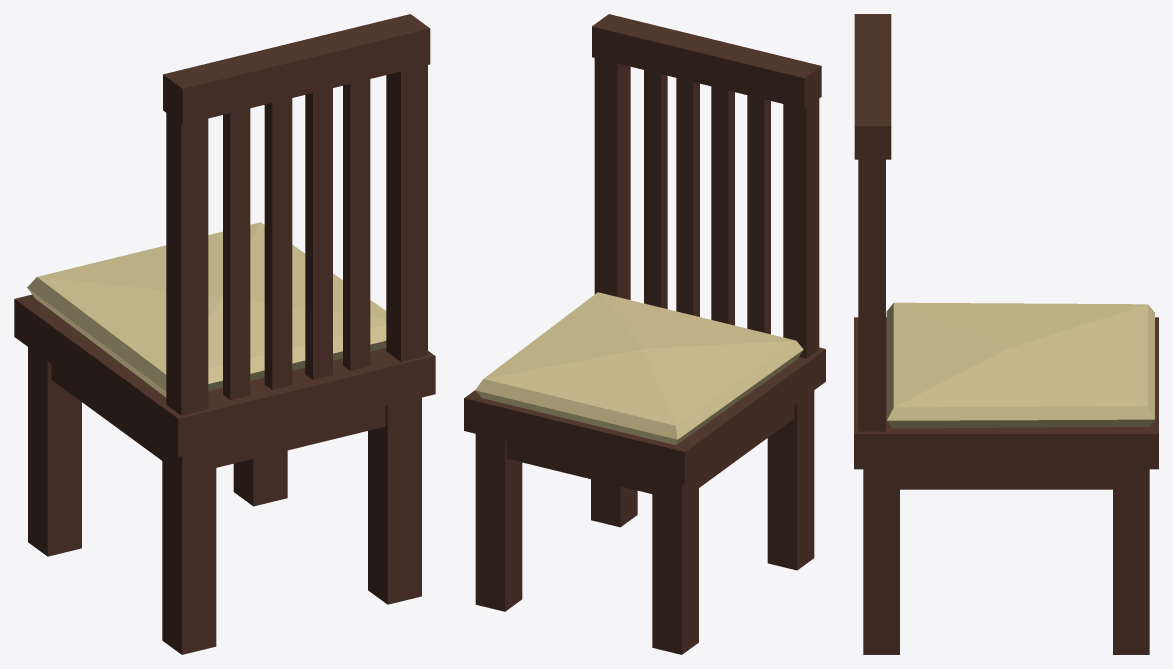
Rendered from Chair_1B.fbx.
3 views of the same model, side by side, from view 1: azimuth 30°, elevation 25°; view 2: azimuth 150°, elevation 25°; view 3: azimuth 270°, elevation 25° (orthographic). The views are drawn at different scales.
Parts seen in each view (by area): view 1: polySurface2335; view 2: polySurface2335; view 3: polySurface2335.
Boxes of the visible parts, bbox=[...] form: polySurface2335: bbox=[14, 14, 435, 654]; polySurface2335: bbox=[464, 14, 825, 654]; polySurface2335: bbox=[854, 14, 1158, 654].
Bounding box in the file's own units: 0.6 × 1.27 × 0.6625.
1 material, 1 textured.
